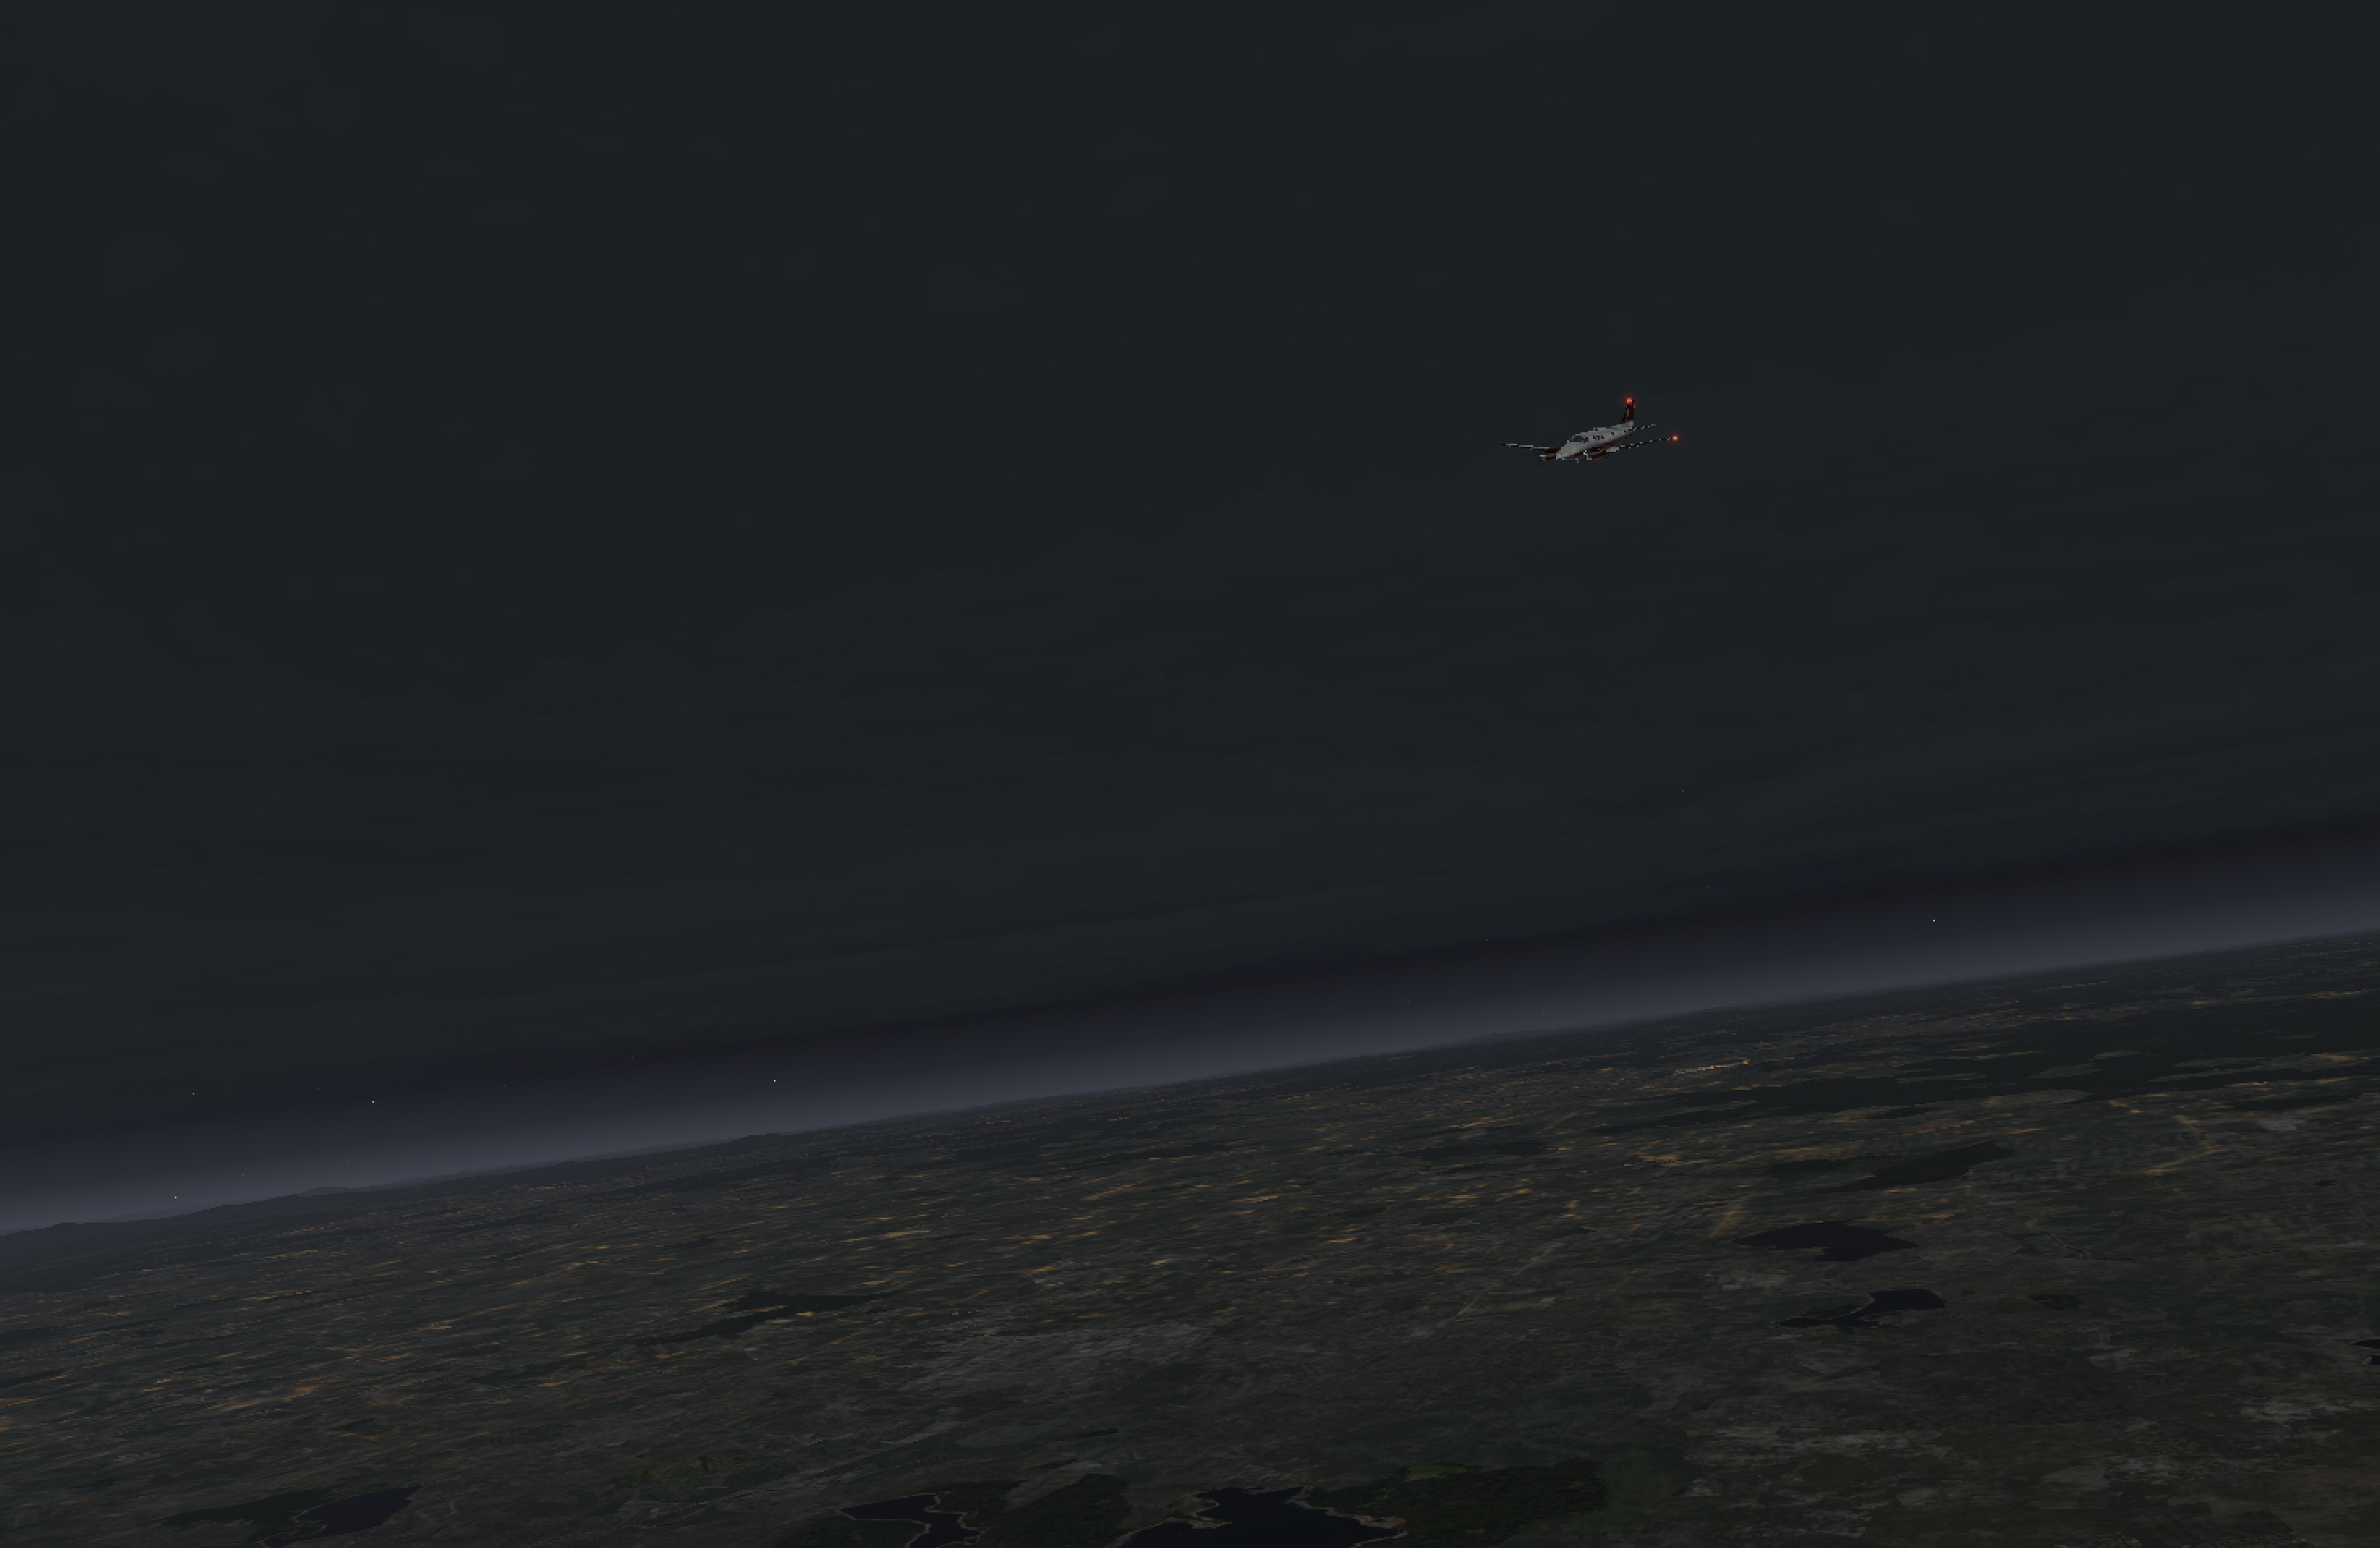aircraft: (1483, 417, 1686, 493)
